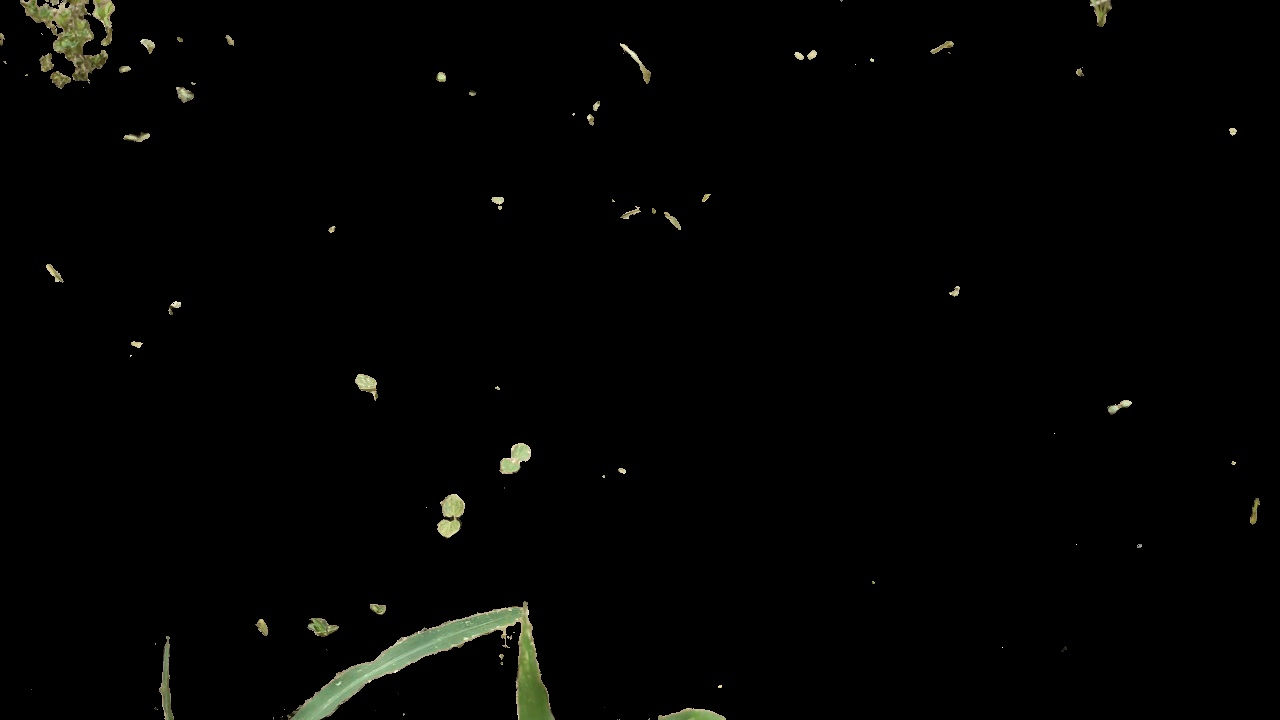crop: (143, 621, 516, 720), (509, 595, 742, 720)
weed: (9, 1, 139, 85), (485, 438, 536, 478), (438, 485, 469, 545), (351, 365, 385, 401), (783, 44, 831, 69), (298, 617, 341, 641), (115, 124, 161, 145), (251, 612, 279, 645), (1099, 392, 1133, 414)
